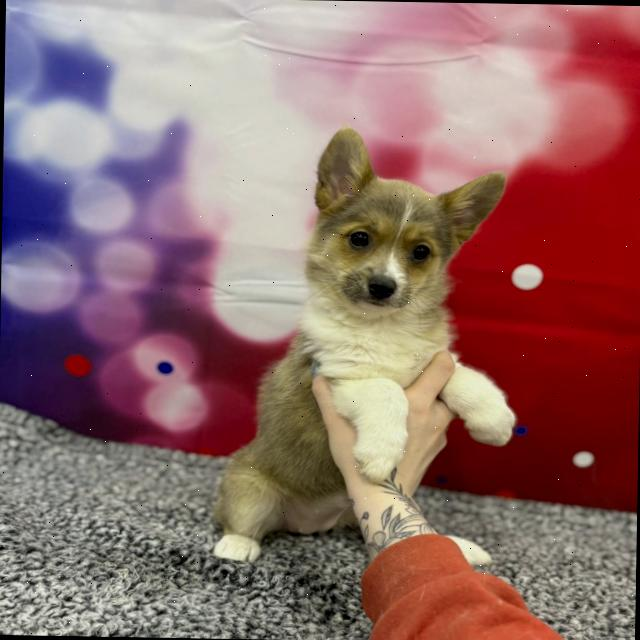corgi_dog: (291, 122, 514, 338)
